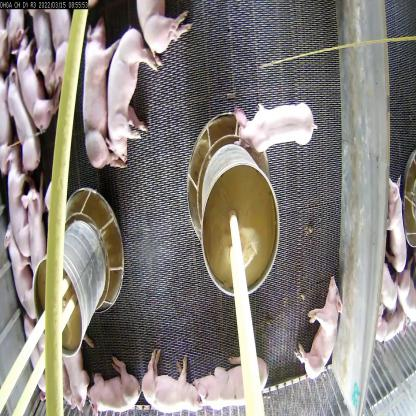Pig: (96, 21, 151, 150), (191, 349, 278, 415), (296, 278, 345, 392), (235, 89, 315, 158), (75, 32, 113, 164), (5, 74, 45, 186), (143, 349, 209, 413), (17, 47, 66, 131), (130, 0, 191, 62), (48, 333, 91, 415), (92, 362, 146, 408), (18, 186, 45, 276)
